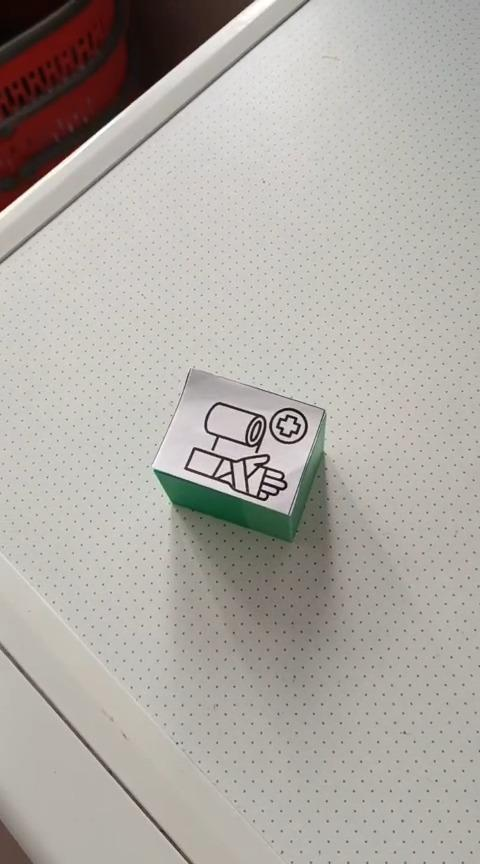Bandages: (151, 366, 326, 542)
